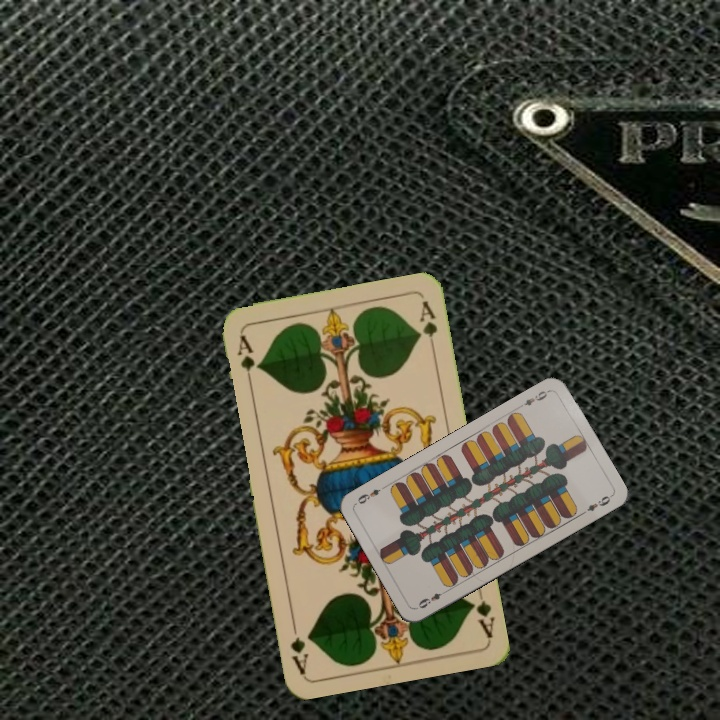E9: (413, 585, 450, 611), (515, 386, 552, 411)
GA: (466, 582, 497, 640), (233, 331, 262, 388)
